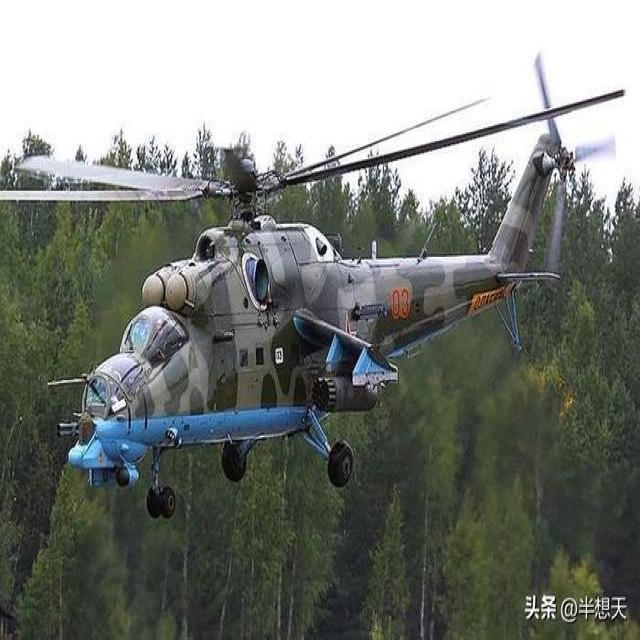MIL_HELO: (7, 51, 624, 515)
